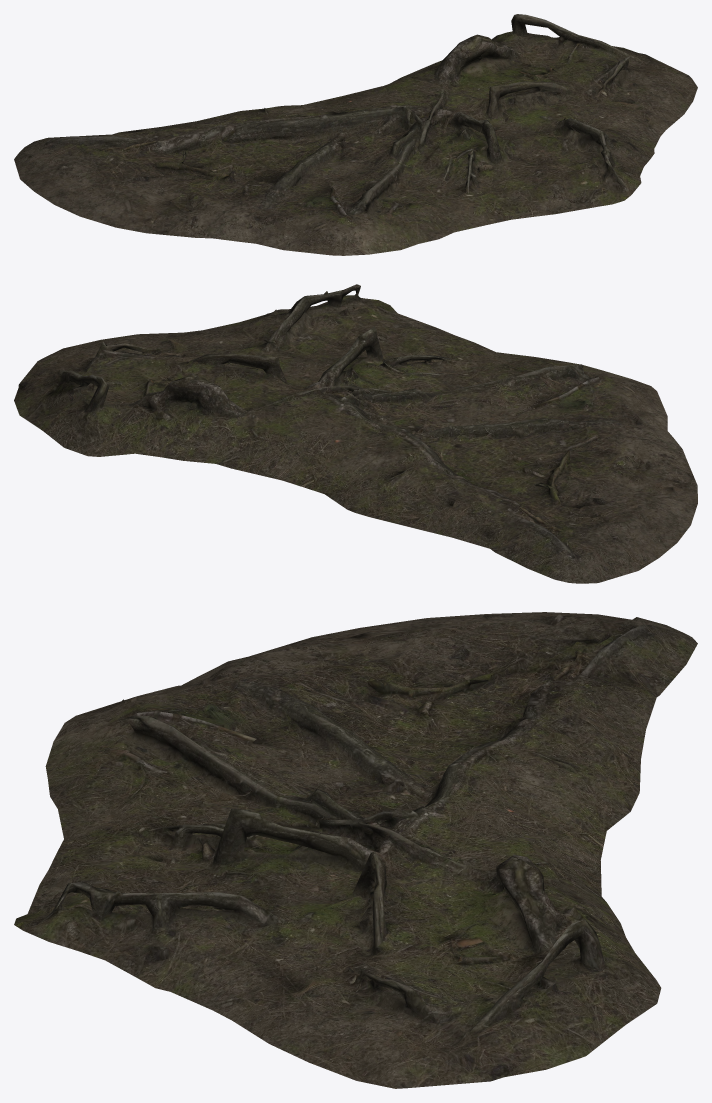
The model's file is pine_roots_b.glb.
The picture shows the model from 3 angles, top to bottom: view 1: azimuth 30°, elevation 25°; view 2: azimuth 150°, elevation 25°; view 3: azimuth 270°, elevation 25°; orthographic projection. The views are drawn at different scales.
Parts seen in each view (by area): view 1: pine_roots_b__lodS; view 2: pine_roots_b__lodS; view 3: pine_roots_b__lodS.
Part boxes in pixels (bbox=[...]): pine_roots_b__lodS: bbox=[14, 14, 697, 255]; pine_roots_b__lodS: bbox=[14, 284, 697, 583]; pine_roots_b__lodS: bbox=[14, 612, 697, 1088].
Size of what is drawn, in the model's own units: 1.63 by 0.1448 by 0.992.
1 material, 1 textured.
